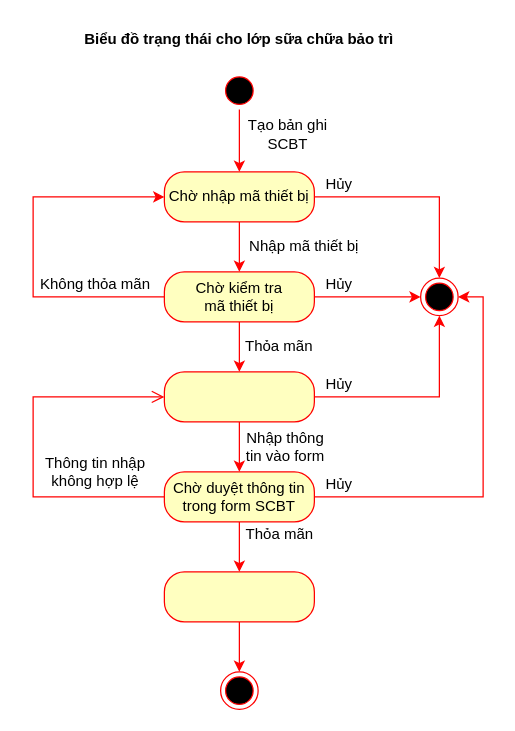
Some shapes in this 515 by 731 pixel diagram are drawn without their labels. The box of each missing label's shape, as (x1, y1, x2, y2) in pixels:
Chờ nhập thông tin vào form SCBT: (163, 371, 314, 422)
Hoàn tất form SCBT: (163, 571, 314, 622)
